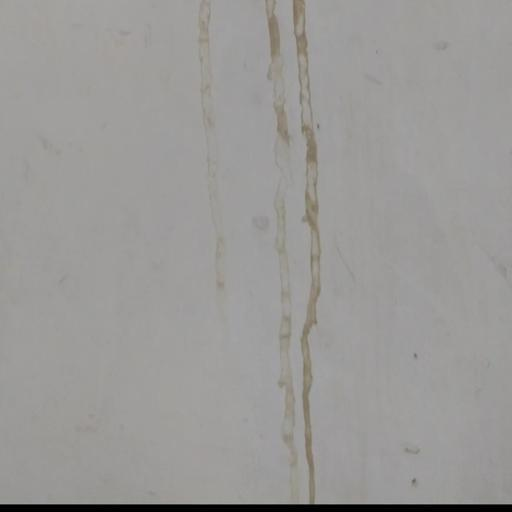stain: (190, 0, 339, 512)
